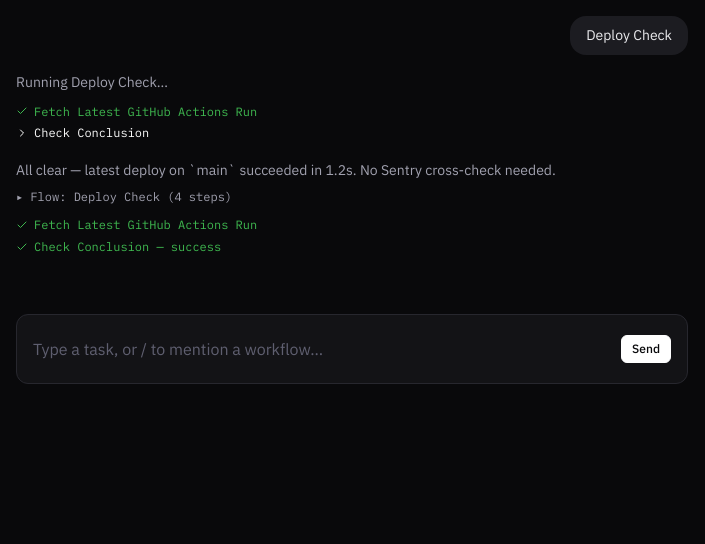
Test: sending a prompt appends a user message and streams an agent reply
In the field: (323, 349) [33,327,613,371], type "check staging"
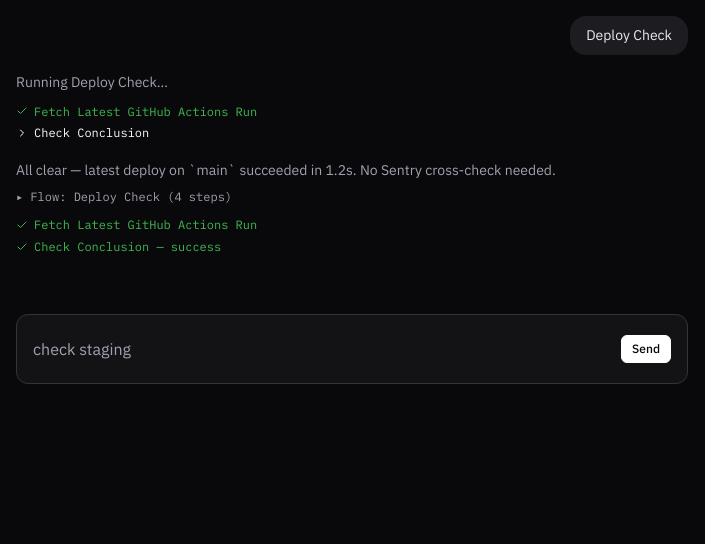
Press Enter
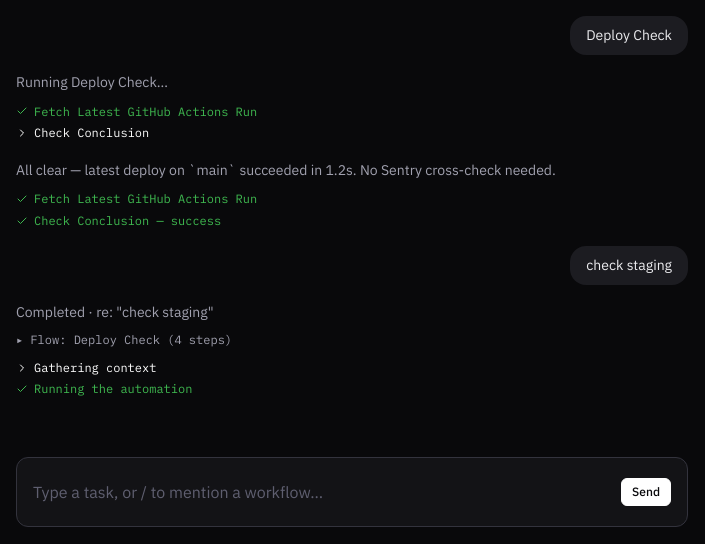
Now the text "check staging" is shown, box [586,254,672,277]
Now the text "Completed · re: \"check staging\"" is shown, box [16,303,214,321]
